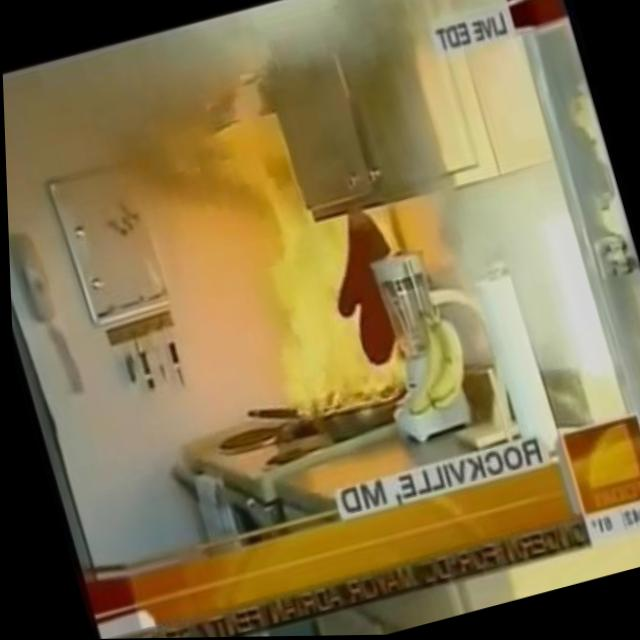fire: (215, 149, 410, 438)
